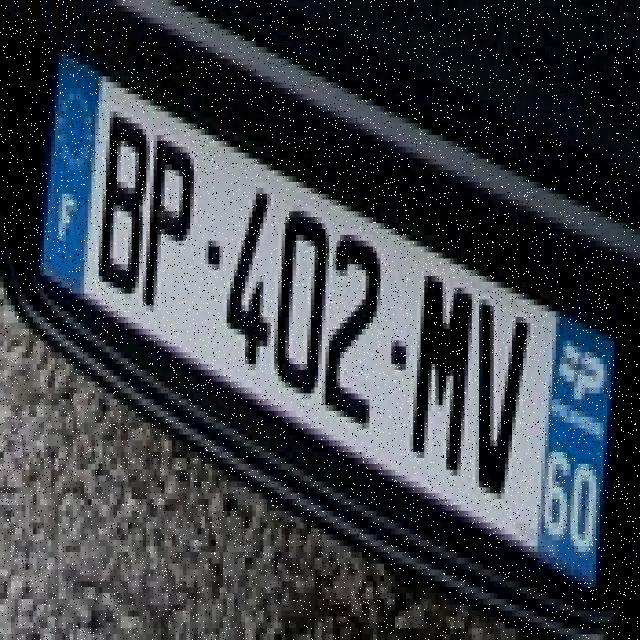licenseplate: (33, 25, 629, 624)
